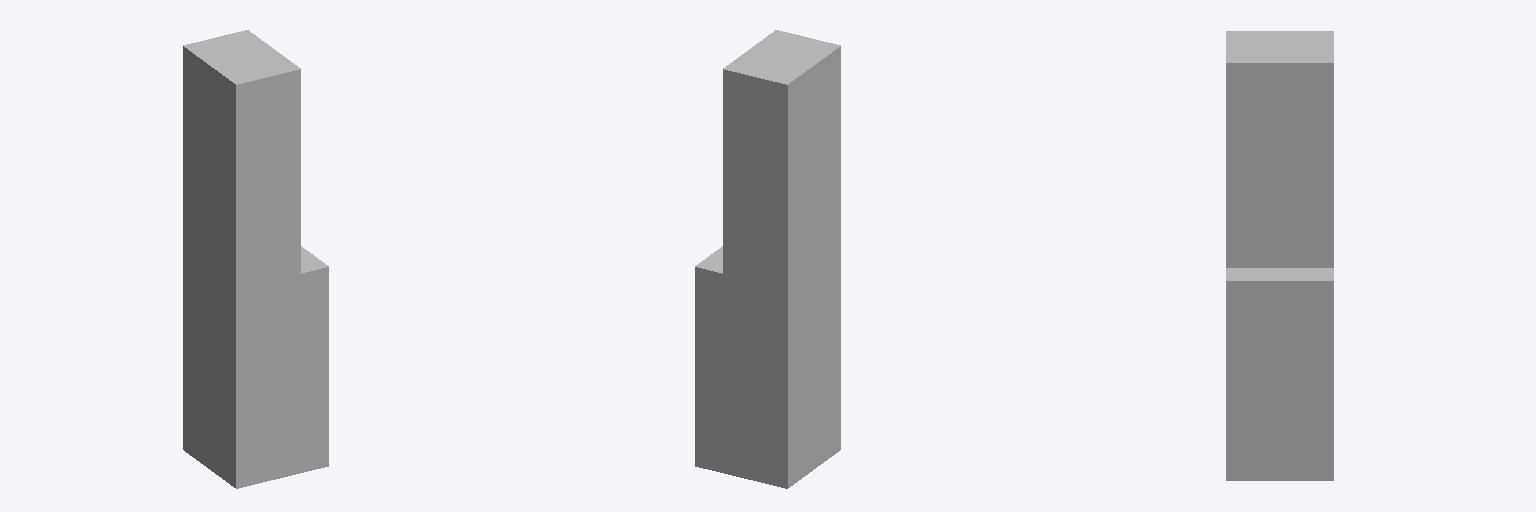
The model's file is oneWhite.obj.
3 views of the same model, side by side, from view 1: azimuth 30°, elevation 25°; view 2: azimuth 150°, elevation 25°; view 3: azimuth 270°, elevation 25° (orthographic).
Bounding box in the file's own units: 20 × 83 × 20.